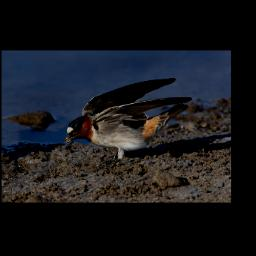Swallow: (65, 77, 192, 169)
